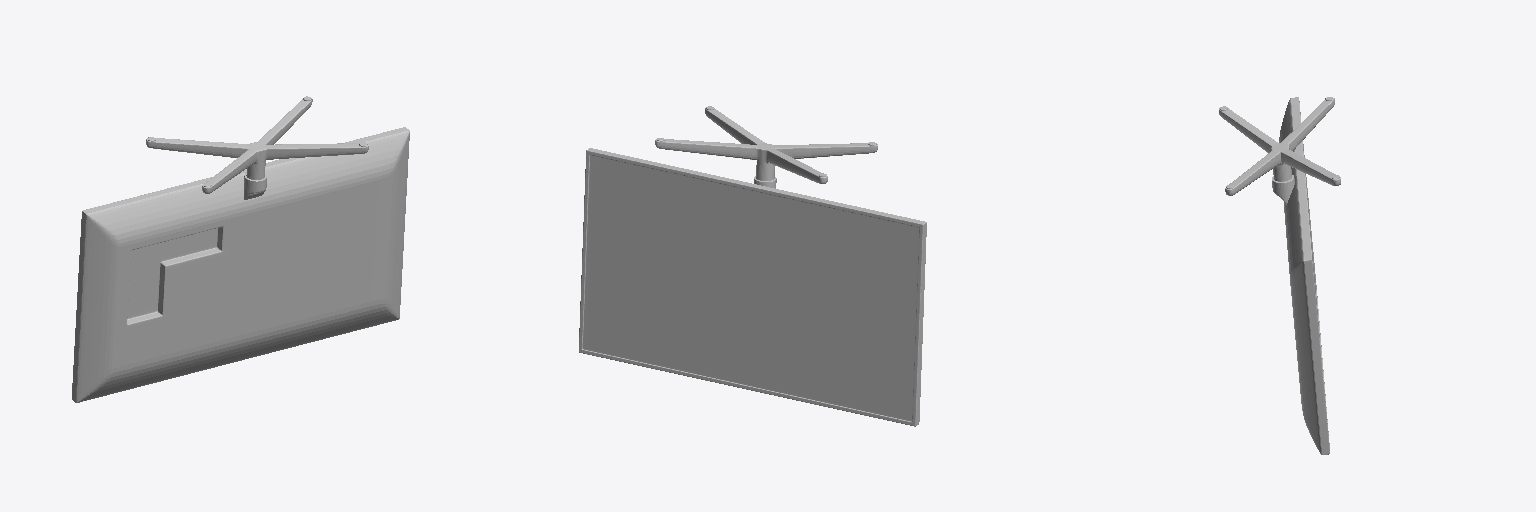
The model's file is televisor17.obj.
3 renders of one model, left to right at view 1: azimuth 30°, elevation 25°; view 2: azimuth 150°, elevation 25°; view 3: azimuth 270°, elevation 25°, orthographic.
Parts seen in each view (by area): view 1: 20354_Modern_Television_set_1_v1; view 2: 20354_Modern_Television_set_1_v1; view 3: 20354_Modern_Television_set_1_v1.
Boxes of the visible parts, x1,y1,x2,y2 form: 20354_Modern_Television_set_1_v1: [72, 96, 409, 402]; 20354_Modern_Television_set_1_v1: [579, 106, 926, 426]; 20354_Modern_Television_set_1_v1: [1219, 97, 1340, 454].
Bounding box in the file's own units: 9.39 × 6.43 × 3.01.